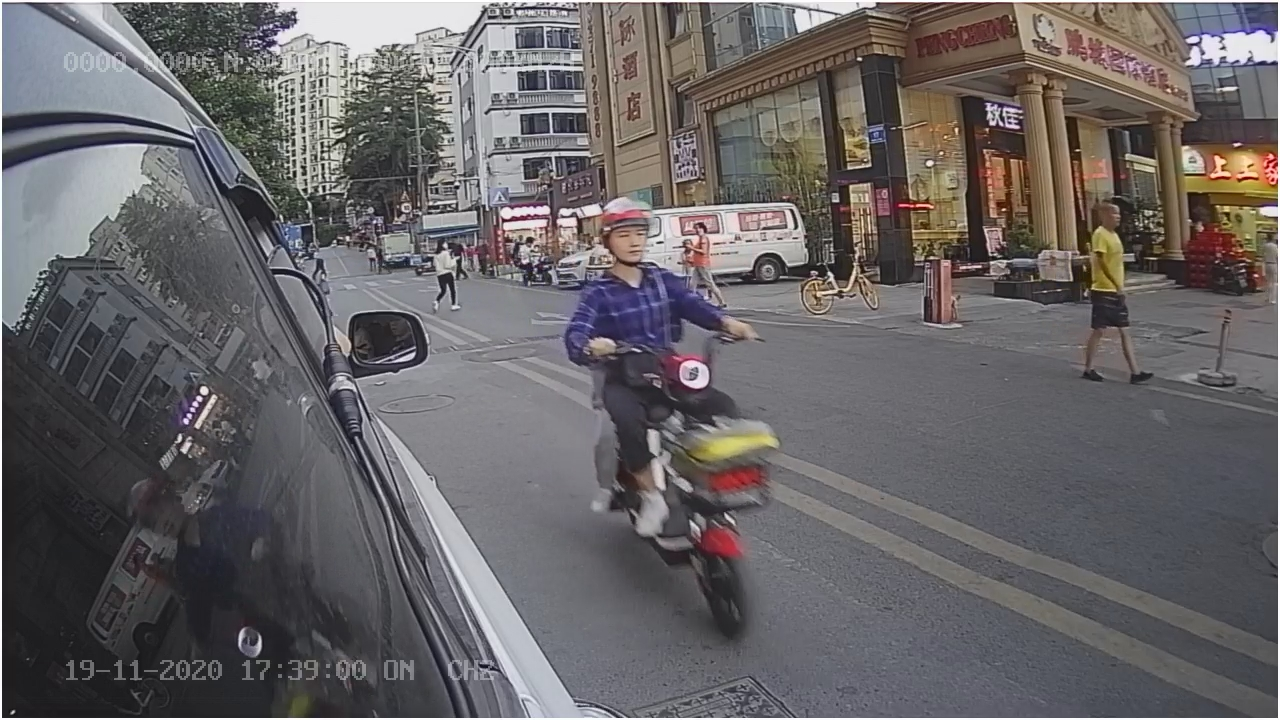person: (564, 199, 694, 397)
